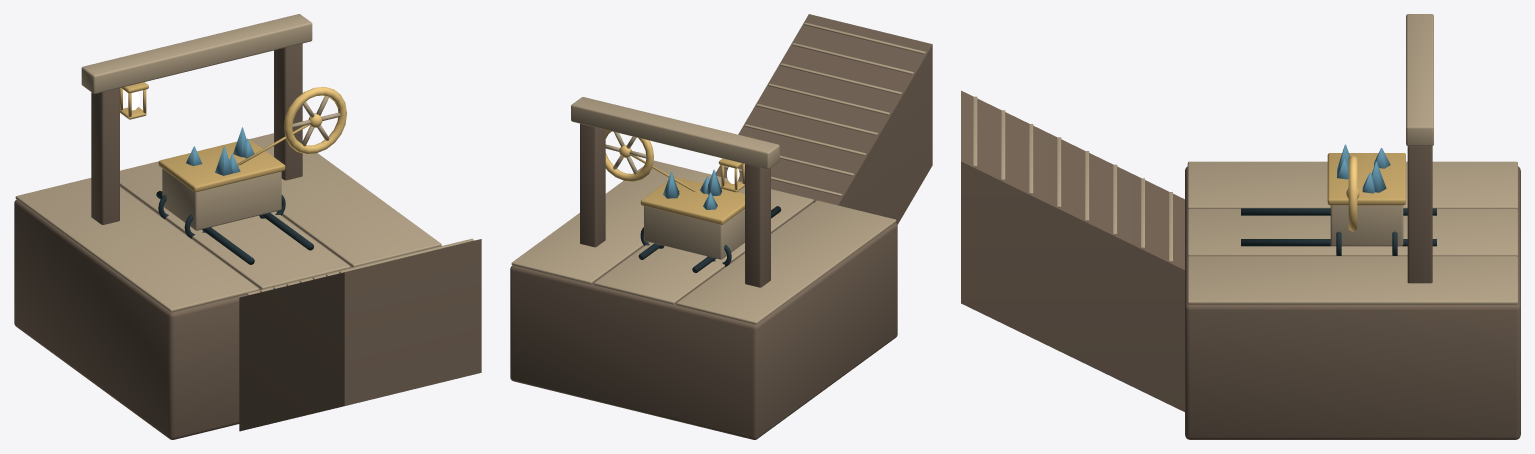
The model's file is discovery_prospector.glb.
The picture shows the model from 3 angles, left to right: view 1: azimuth 30°, elevation 25°; view 2: azimuth 150°, elevation 25°; view 3: azimuth 270°, elevation 25°; orthographic projection. The views are drawn at different scales.
Parts seen in each view (by area): view 1: discovery_prospector_part_0, discovery_prospector_part_2, discovery_prospector_part_3; view 2: discovery_prospector_part_0, discovery_prospector_part_2, discovery_prospector_part_3; view 3: discovery_prospector_part_0, discovery_prospector_part_2, discovery_prospector_part_3.
Boxes of the visible parts, x1,y1,x2,y2 form: discovery_prospector_part_0: (14, 14, 481, 439); discovery_prospector_part_2: (158, 127, 285, 238); discovery_prospector_part_3: (284, 87, 346, 154); discovery_prospector_part_0: (510, 14, 932, 439); discovery_prospector_part_2: (640, 169, 744, 266); discovery_prospector_part_3: (605, 130, 653, 181); discovery_prospector_part_0: (961, 14, 1520, 439); discovery_prospector_part_2: (1327, 144, 1405, 255); discovery_prospector_part_3: (1346, 155, 1359, 231).
Size of the model in its own units: 6 by 6.05 by 10.
